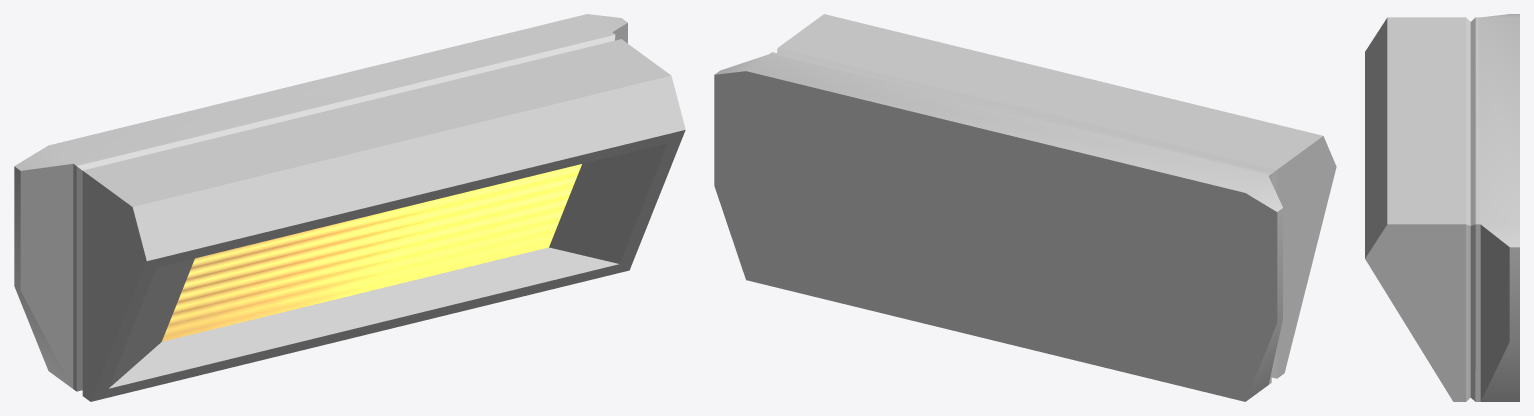
Rendered from KB3D_CBP_Light_D.fbx.
3 renders of one model, left to right at view 1: azimuth 30°, elevation 25°; view 2: azimuth 150°, elevation 25°; view 3: azimuth 270°, elevation 25°, orthographic. The views are drawn at different scales.
Visible parts, largest first — view 1: KB3D_CBP_Light_D_Main; view 2: KB3D_CBP_Light_D_Main; view 3: KB3D_CBP_Light_D_Main.
Part boxes in pixels (x1,y1,x2,y2): KB3D_CBP_Light_D_Main: (14,14,685,401); KB3D_CBP_Light_D_Main: (714,14,1336,401); KB3D_CBP_Light_D_Main: (1365,14,1519,401).
Bounding box in the file's own units: 44.36 × 15.74 × 12.45.
